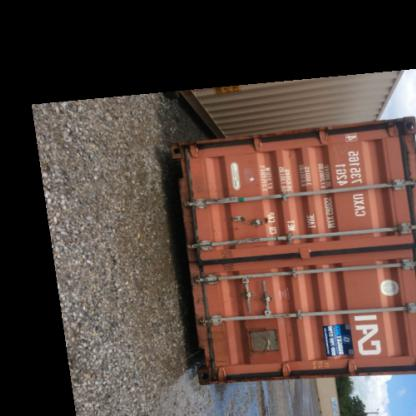Damage: (174, 150, 210, 264), (195, 316, 227, 377), (214, 244, 245, 282)
